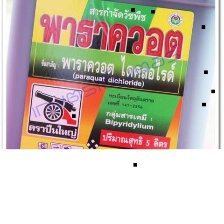insecticide: (17, 0, 197, 195)
